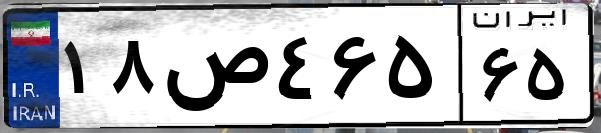1: (57, 26, 110, 100)
4: (270, 28, 330, 110)
5: (385, 28, 445, 110), (525, 38, 570, 115)
6: (330, 28, 385, 110), (475, 38, 525, 113)
8: (110, 28, 158, 98)
ص: (158, 20, 270, 120)
